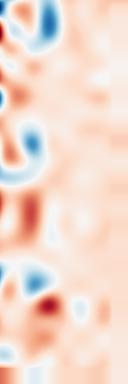filament: (13, 184, 50, 245)
